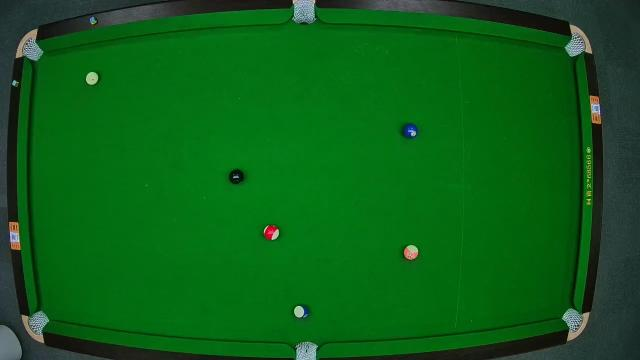bag1: (22, 39, 42, 61)
bag2: (292, 0, 318, 24)
bag3: (564, 33, 588, 55)
bag4: (27, 310, 48, 334)
bag5: (293, 340, 319, 360)
bag6: (562, 308, 582, 330)
ball0: (84, 70, 100, 86)
ball10: (292, 304, 308, 320)
ball11: (264, 222, 280, 242)
ball12: (404, 244, 418, 262)
ball2: (402, 124, 418, 138)
ball8: (228, 170, 244, 184)
